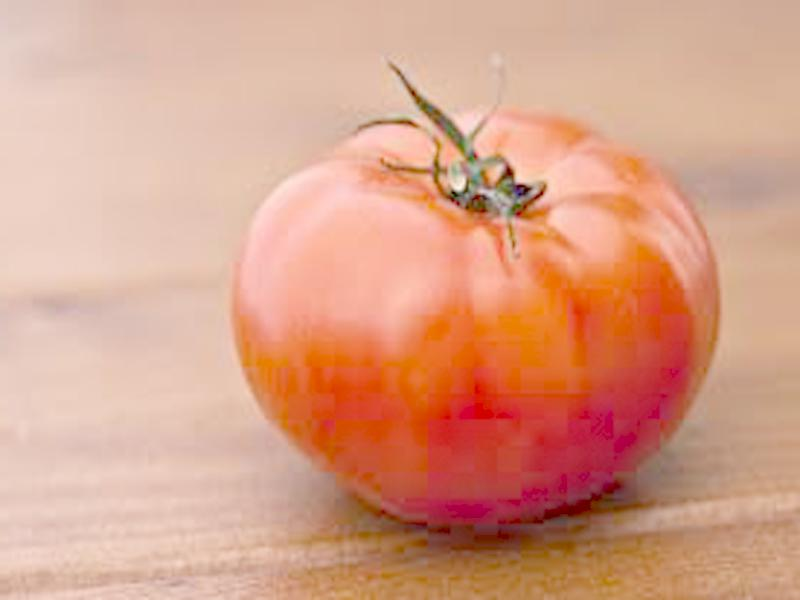Tomato: (226, 108, 718, 525)
